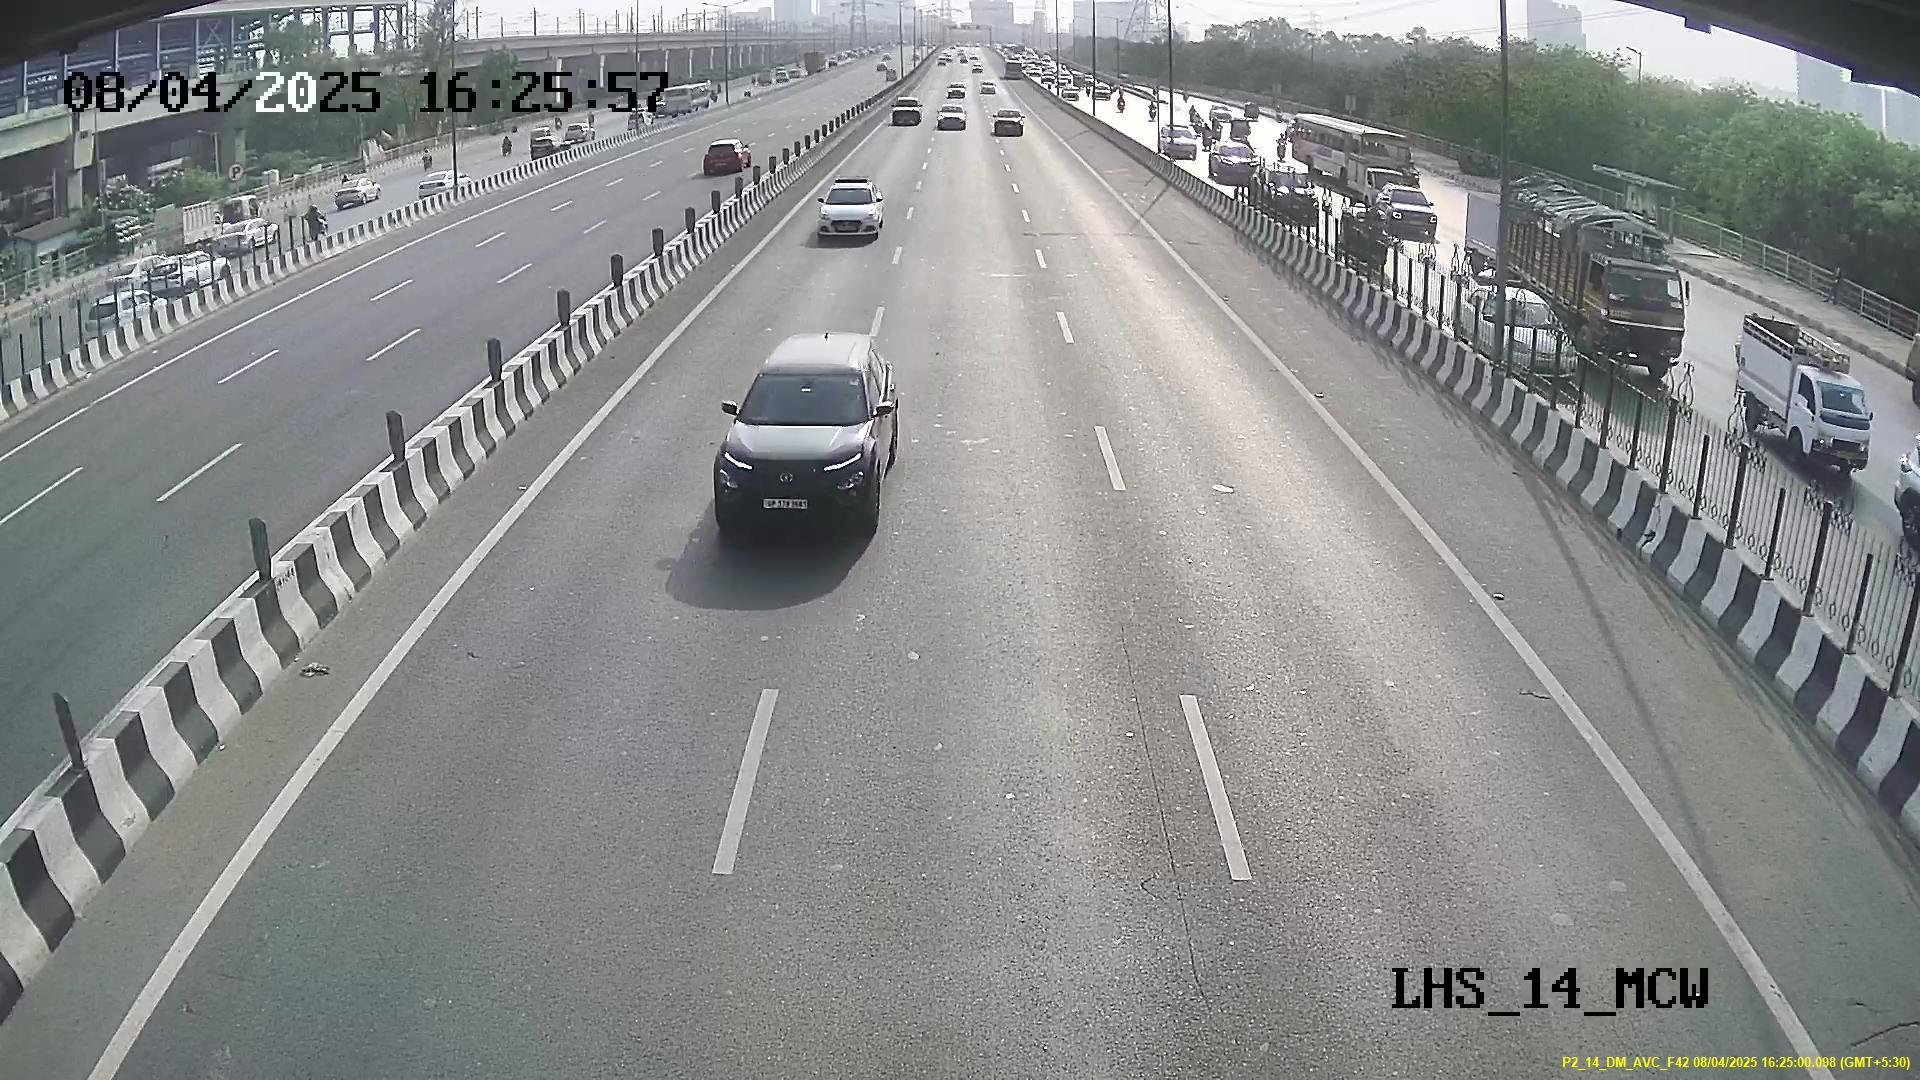car: (713, 355, 894, 537)
